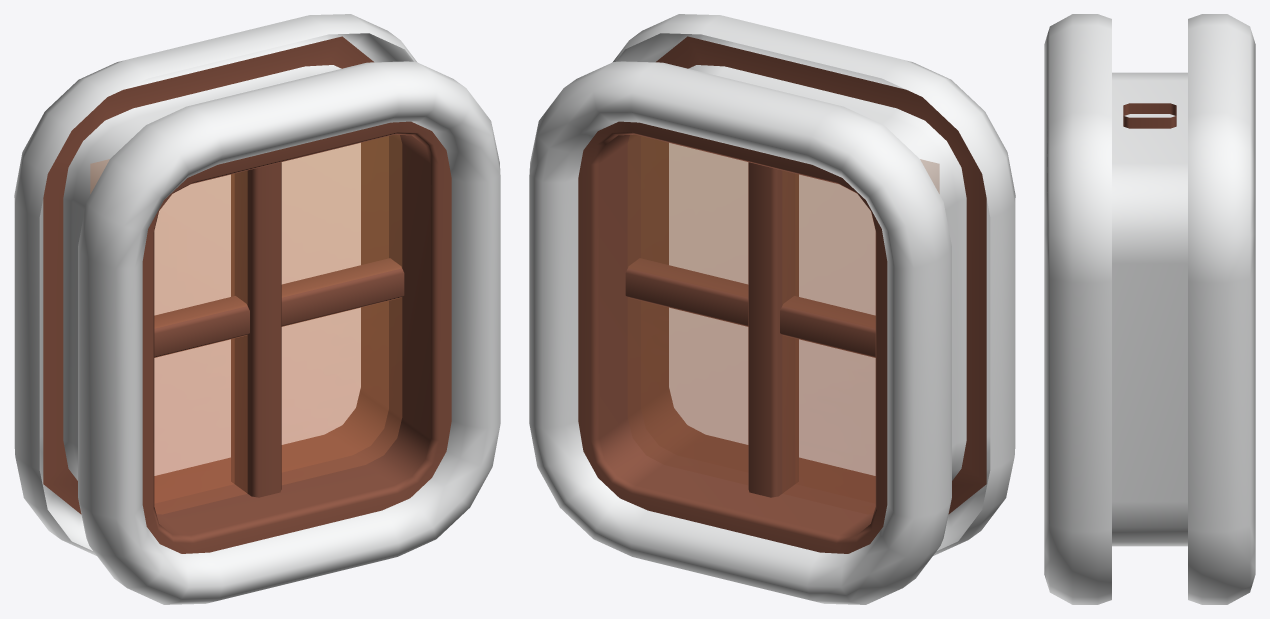
File: Window_003.fbx
The picture shows the model from 3 angles, left to right: view 1: azimuth 30°, elevation 25°; view 2: azimuth 150°, elevation 25°; view 3: azimuth 270°, elevation 25°; orthographic projection.
Parts seen in each view (by area): view 1: Window_003; view 2: Window_003; view 3: Window_003.
Boxes of the visible parts, x1,y1,x2,y2 form: Window_003: [14, 14, 500, 604]; Window_003: [529, 14, 1015, 604]; Window_003: [1044, 14, 1255, 604].
Size of the model in its own units: 1.22 by 1.4 by 0.557.
